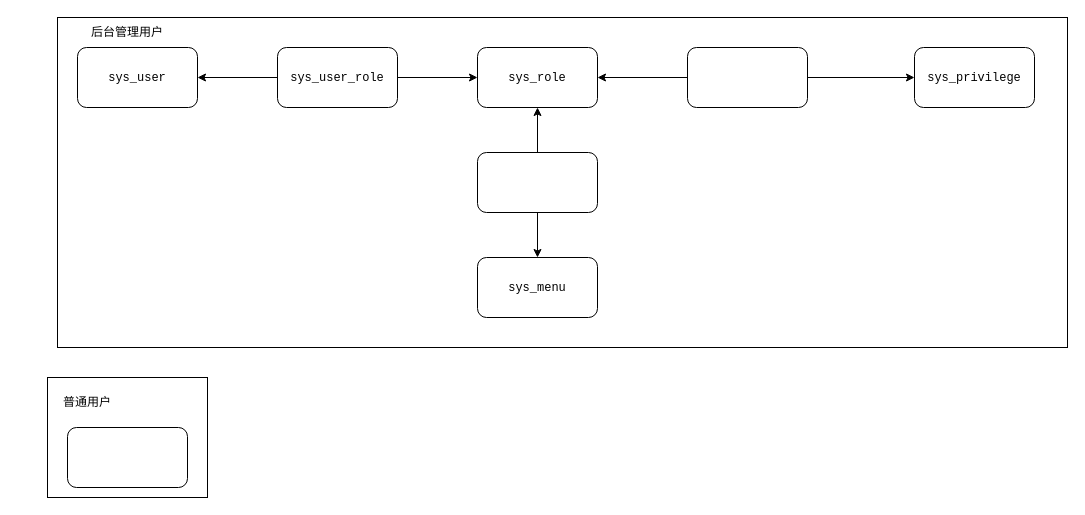
Some shapes in this 1085 by 515 pixel diagram are drawn without their labels. The centre of each missing label's shape, as x and y in pixels:
"sys_role_menu" goes at point (537, 182).
"sys_role_privilege" goes at point (747, 77).
"user" goes at point (127, 457).
